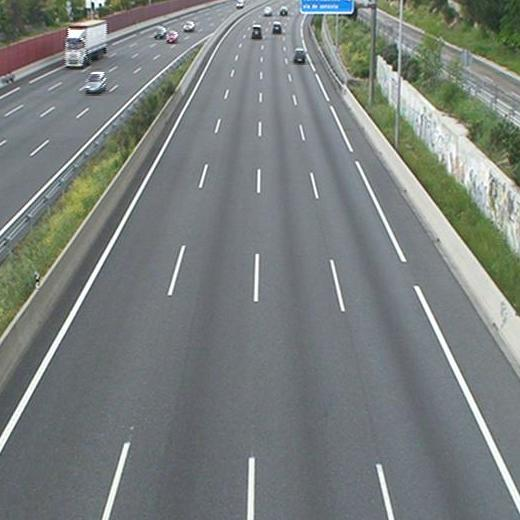car: (293, 47, 306, 63), (251, 24, 262, 39), (271, 21, 281, 34)
